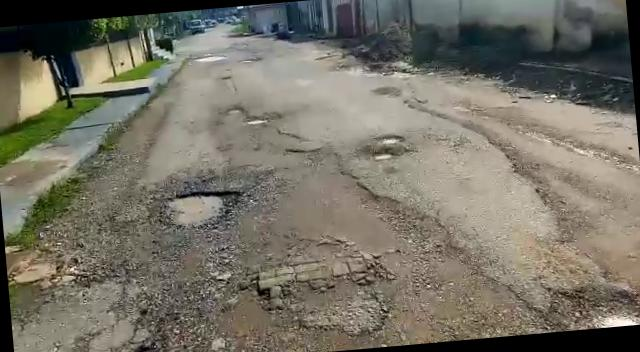pothole: (160, 189, 242, 231), (374, 134, 406, 147), (372, 151, 394, 162), (224, 106, 244, 117), (244, 118, 270, 126)
